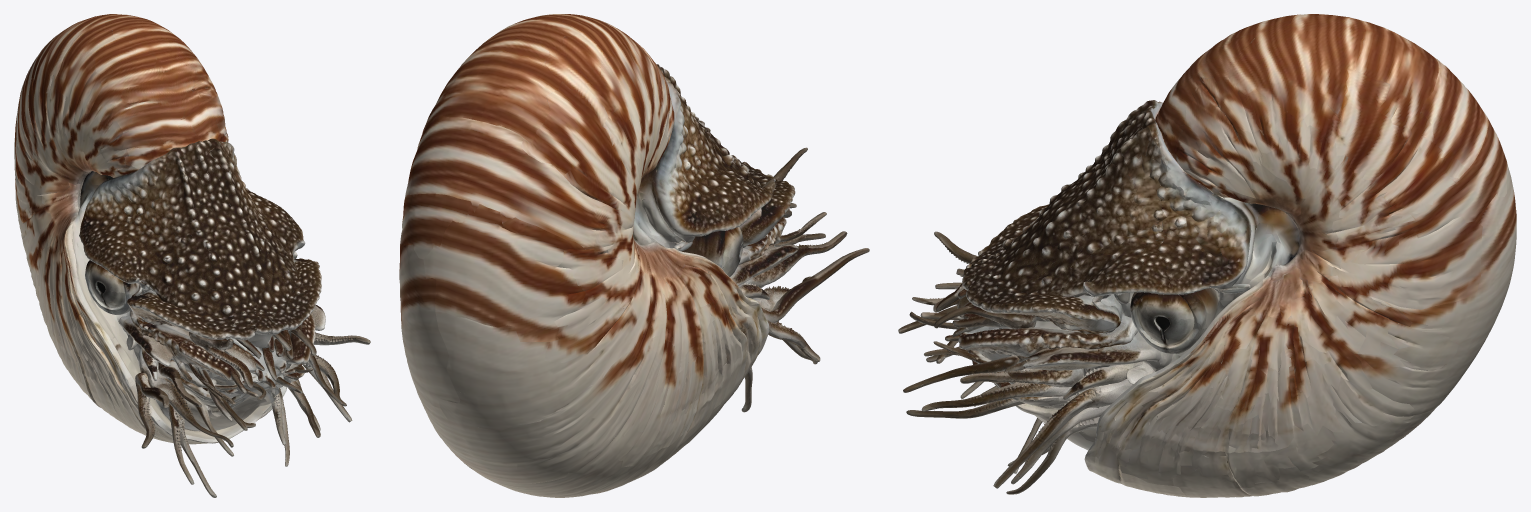
Rendered from nautilus.glb.
3 views of the same model, side by side, from view 1: azimuth 30°, elevation 25°; view 2: azimuth 150°, elevation 25°; view 3: azimuth 270°, elevation 25° (orthographic). The views are drawn at different scales.
Parts seen in each view (by area): view 1: Mesh_0; view 2: Mesh_0; view 3: Mesh_0.
Part boxes in pixels (x1,y1,x2,y2): Mesh_0: (14,14,370,497); Mesh_0: (399,14,869,497); Mesh_0: (898,14,1516,497).
Bounding box in the file's own units: 0.9334 × 1.6 × 1.9.
Materials: 1 (1 with a texture image).
